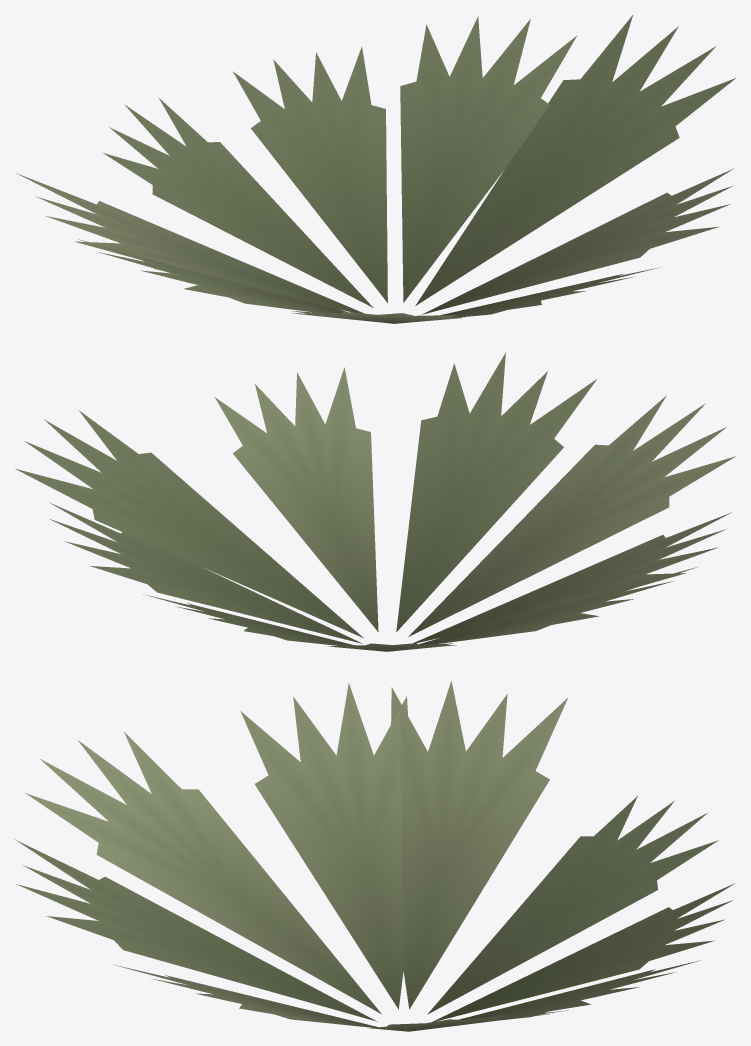
The model's file is fern.glb.
3 renders of one model, top to bottom at view 1: azimuth 30°, elevation 25°; view 2: azimuth 150°, elevation 25°; view 3: azimuth 270°, elevation 25°, orthographic. The views are drawn at different scales.
Parts seen in each view (by area): view 1: fern; view 2: fern; view 3: fern.
Boxes of the visible parts, bbox=[...] form: fern: bbox=[16, 15, 735, 323]; fern: bbox=[15, 352, 735, 651]; fern: bbox=[14, 680, 735, 1031].
Bounding box in the file's own units: 1.56 × 0.3743 × 1.38.
